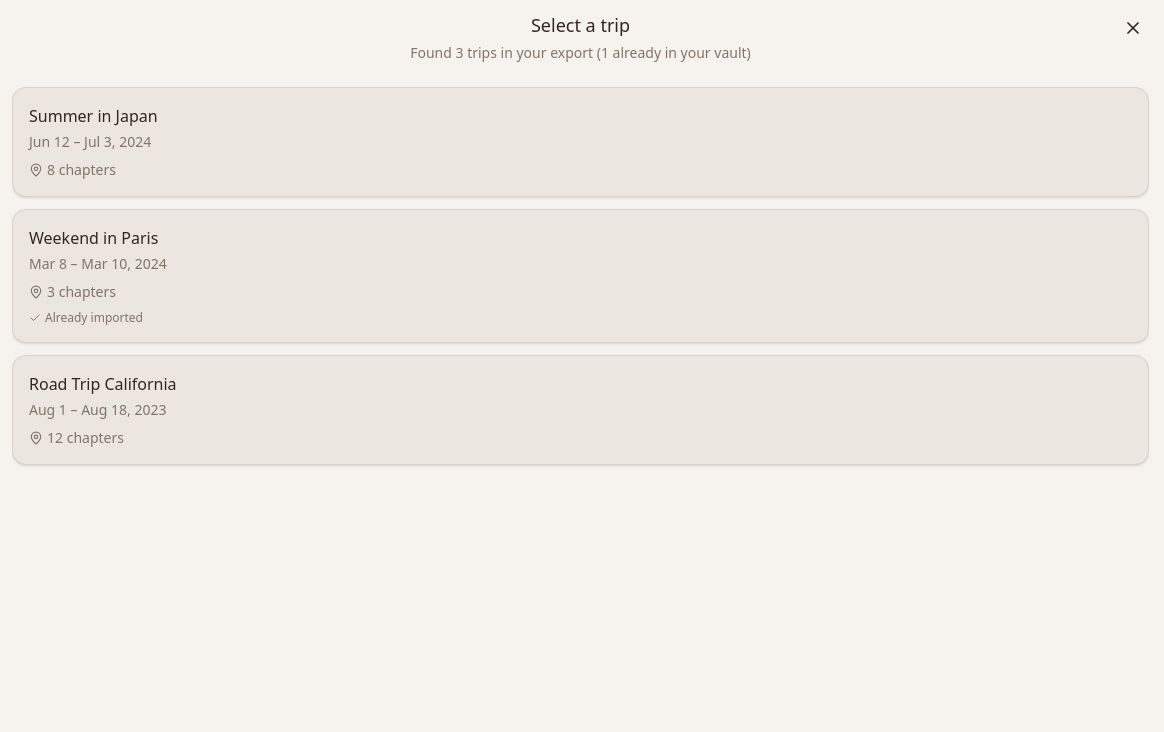
Test: TripSelectionList › shows confirmation when tapping already-imported card
The width and height of the screenshot is (1164, 732).
Click the button "Weekend in Paris": (94, 238) [13, 210, 1148, 342]
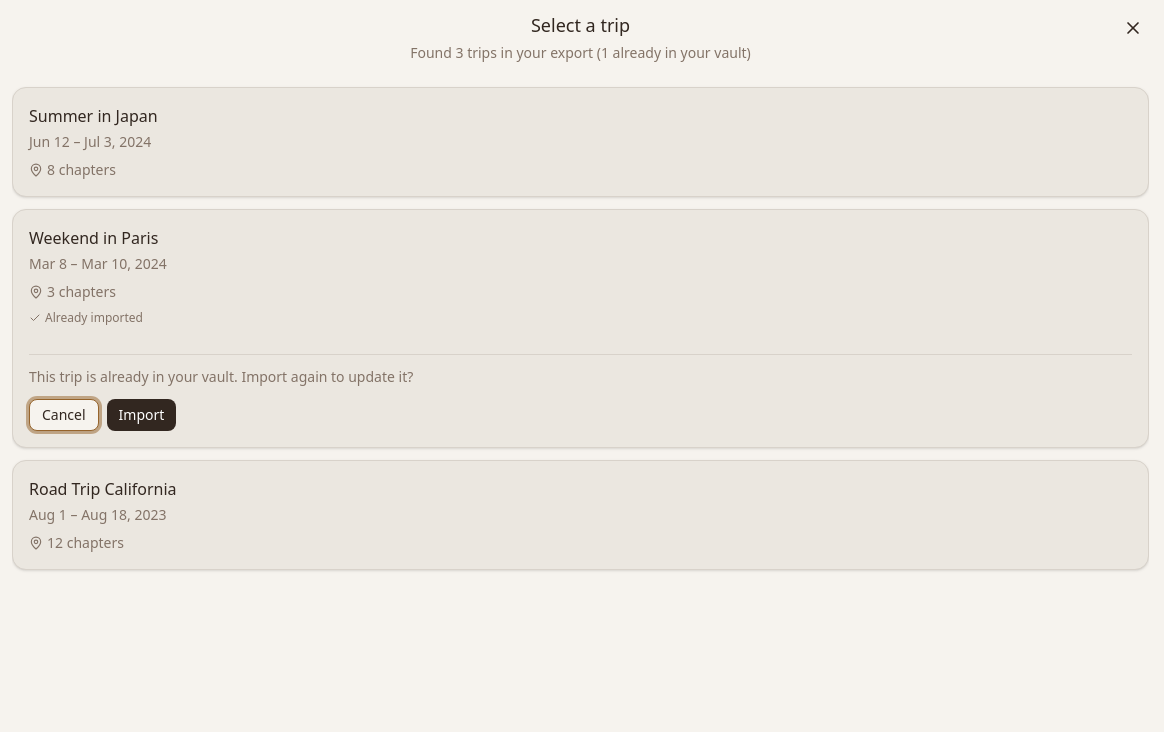
Expected: the text "Import again to update it" is shown, [29, 367, 413, 386]
